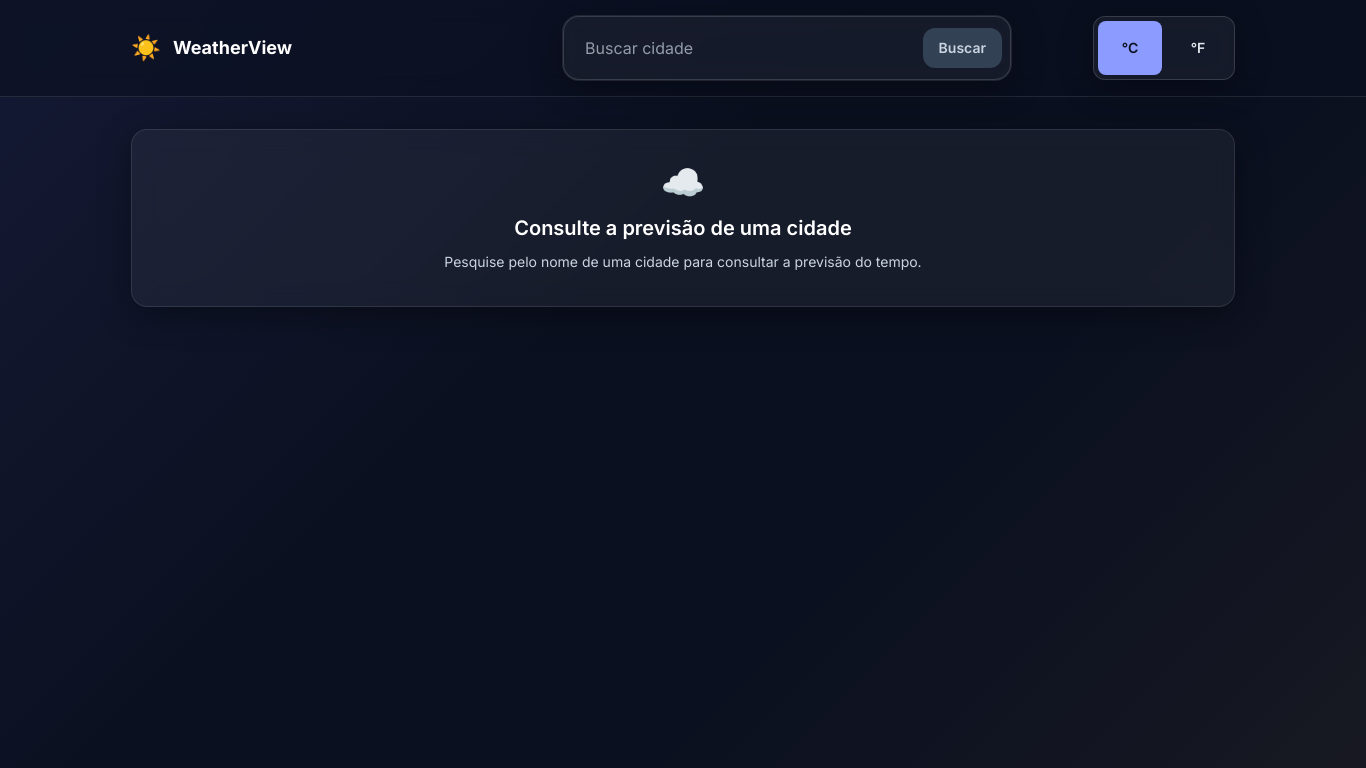
Test: weather UI › shows a recoverable error state and retries the search
In the search field named "Nome da cidade": (743, 48) [572,25,915,71], type "São Paulo"
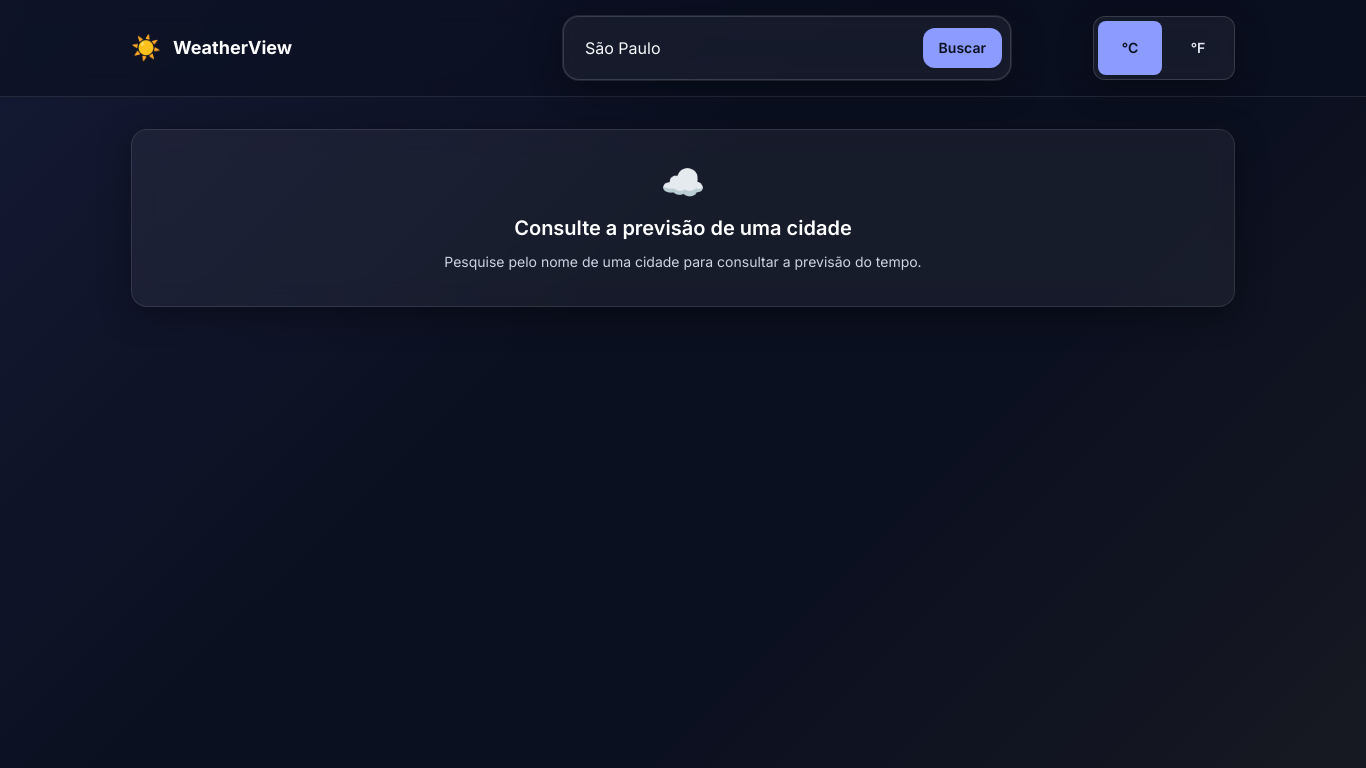
Submit the form, box [563,16,1011,80]
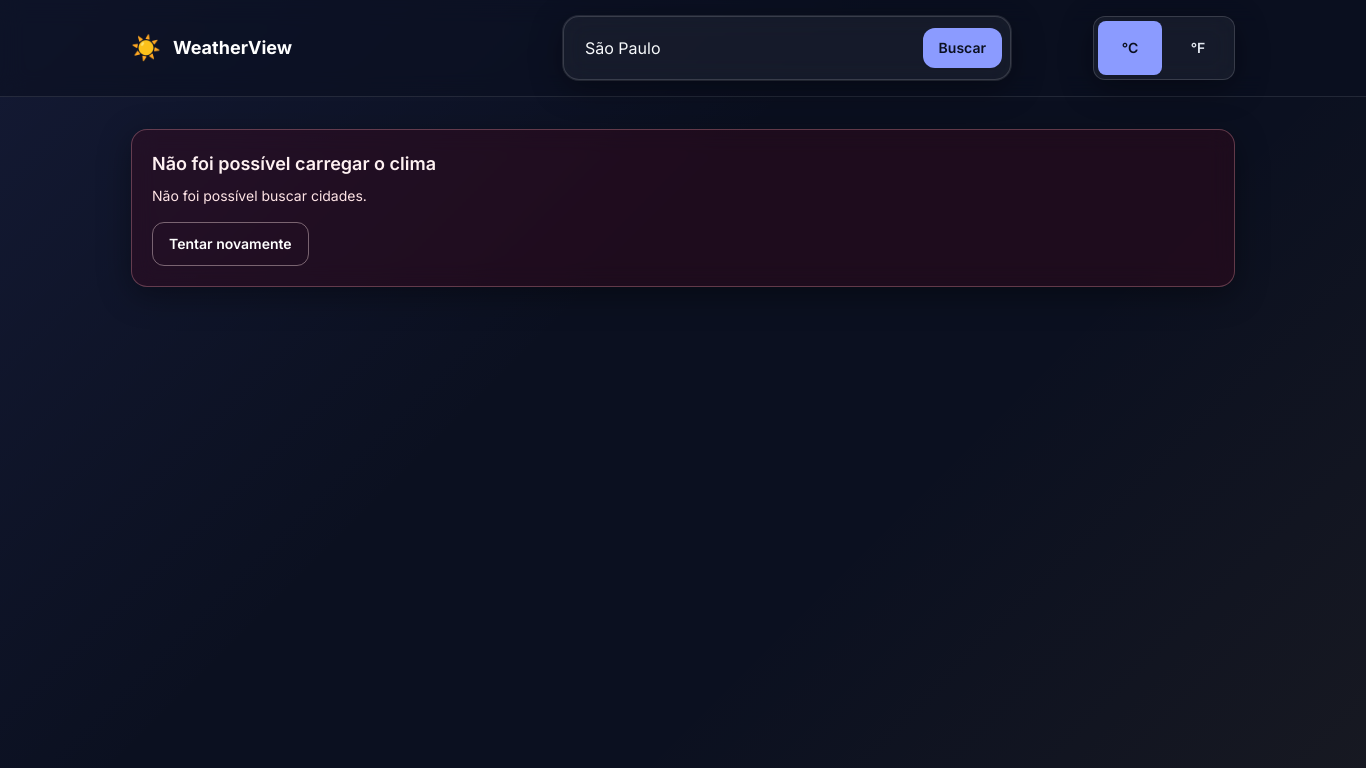
Expected: the message is shown, [131,129,1235,287]
Click the button "Tentar novamente": (230, 244) [152,222,309,266]
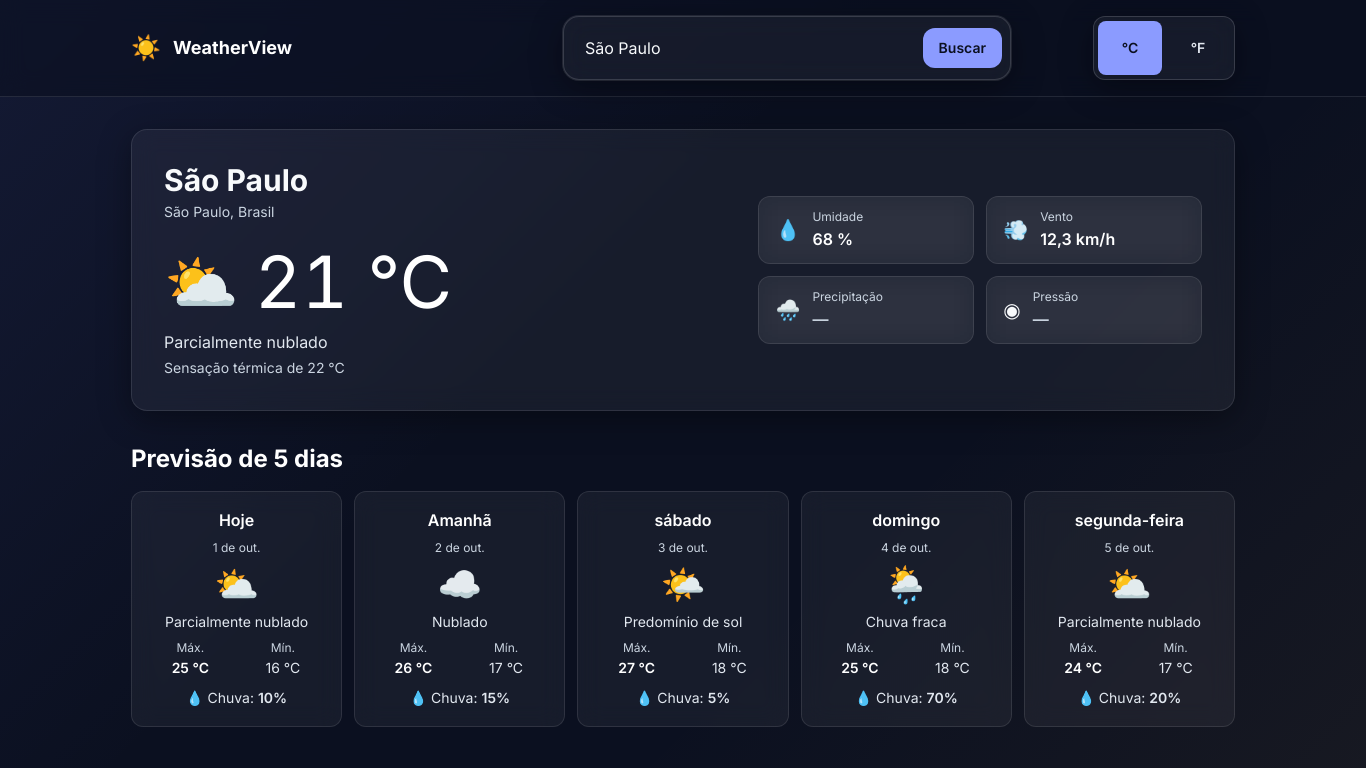
Expected: the heading "São Paulo" is shown, [164,162,308,198]
